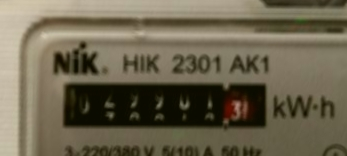0: (175, 85, 189, 110), (74, 91, 90, 112)
1: (200, 86, 213, 109)
2: (99, 89, 115, 108)
3: (227, 97, 240, 119)
9: (150, 87, 164, 109), (125, 87, 137, 109)
screen: (48, 71, 275, 137)
